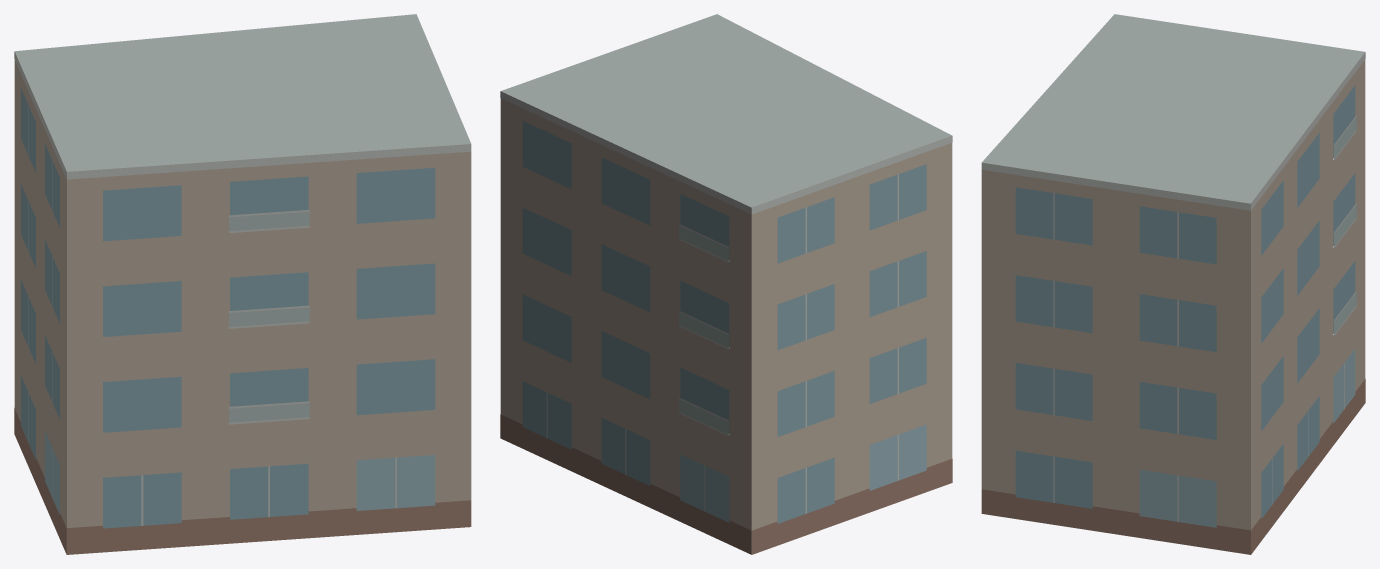
File: survey-upis-32893887.glb
The picture shows the model from 3 angles, left to right: view 1: azimuth 30°, elevation 25°; view 2: azimuth 150°, elevation 25°; view 3: azimuth 270°, elevation 25°; orthographic projection. The views are drawn at different scales.
Parts seen in each view (by area): view 1: survey-upis-32893887.tmp; view 2: survey-upis-32893887.tmp; view 3: survey-upis-32893887.tmp.
Part boxes in pixels (left/top/right/bottom): survey-upis-32893887.tmp: left=14, top=14, right=471, bottom=554; survey-upis-32893887.tmp: left=500, top=14, right=952, bottom=554; survey-upis-32893887.tmp: left=981, top=14, right=1365, bottom=554.
Size of the model in its own units: 14.15 by 12.2 by 12.1.
